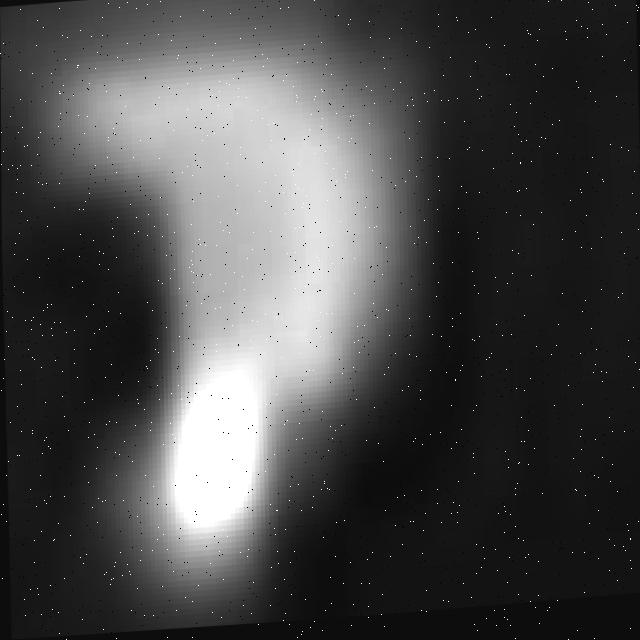person: (35, 26, 447, 632)
